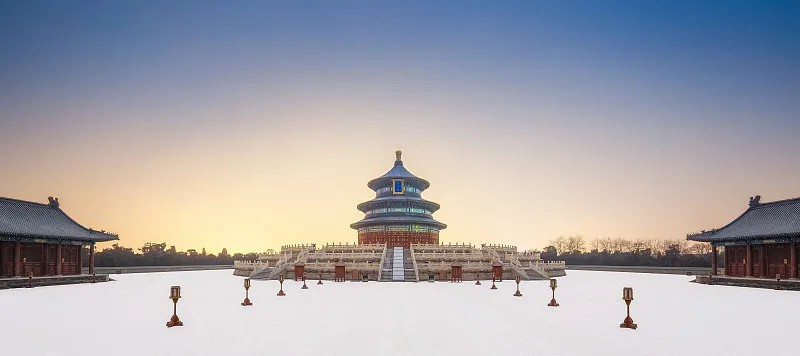Heaven: (350, 151, 448, 249)
